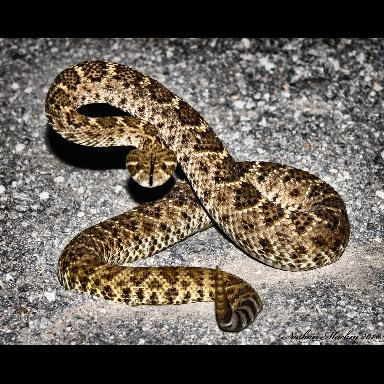snake: (43, 60, 351, 335)
